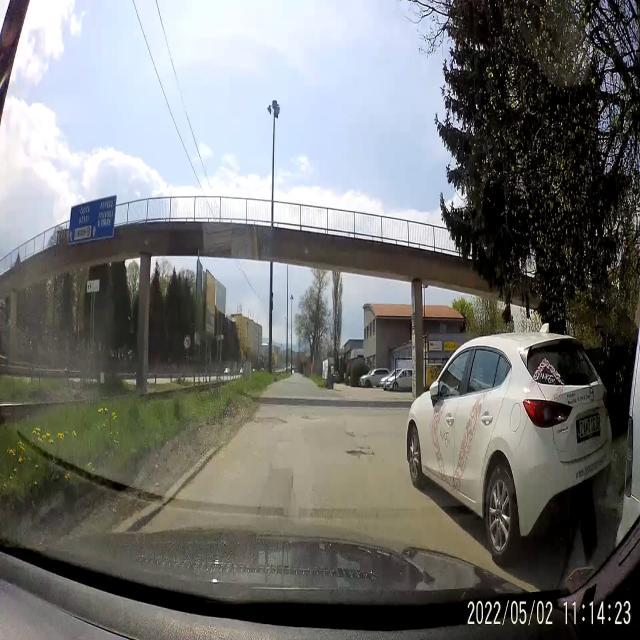Pothole: (248, 410, 290, 430), (346, 442, 376, 460), (300, 412, 320, 424), (342, 428, 357, 439)
